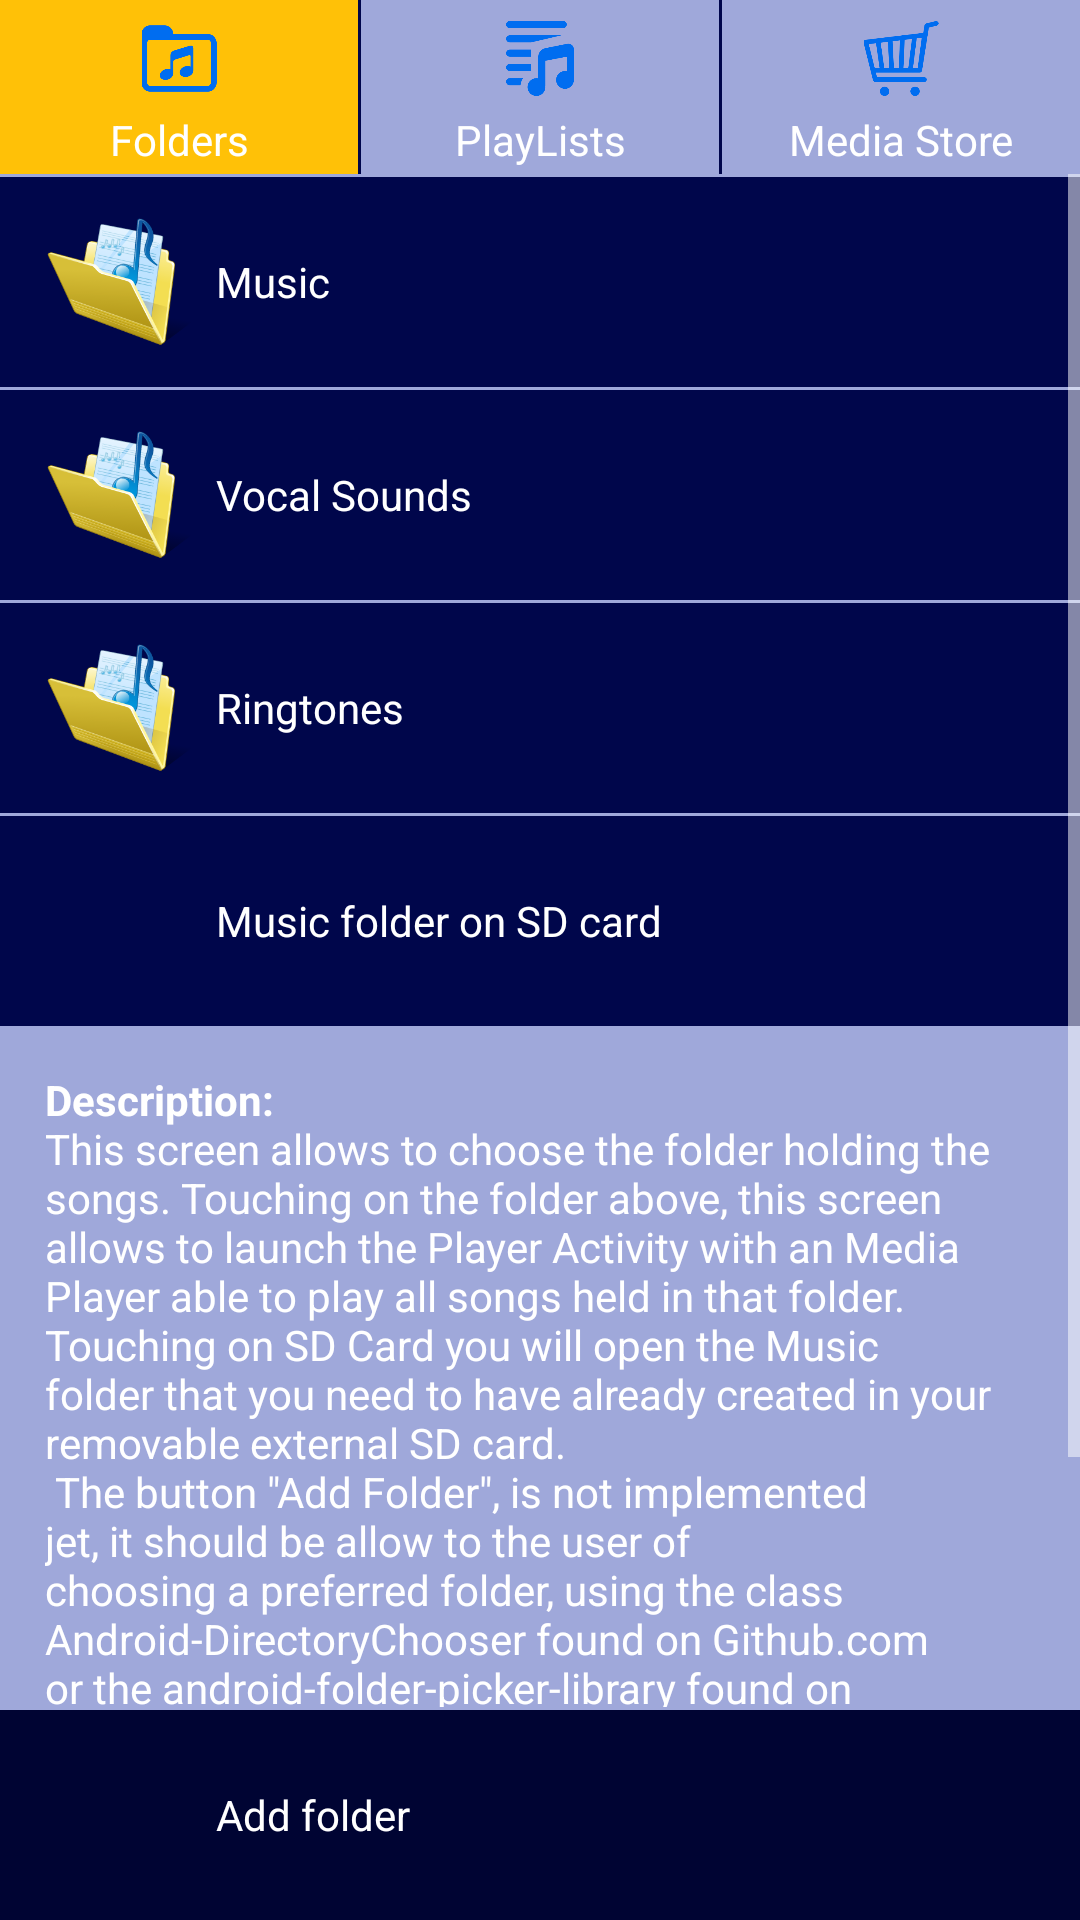

Where to tap for icons on this 1080×1920 app screen, as [x,y]:
folderyellow: [111,281], [111,495], [111,707]
